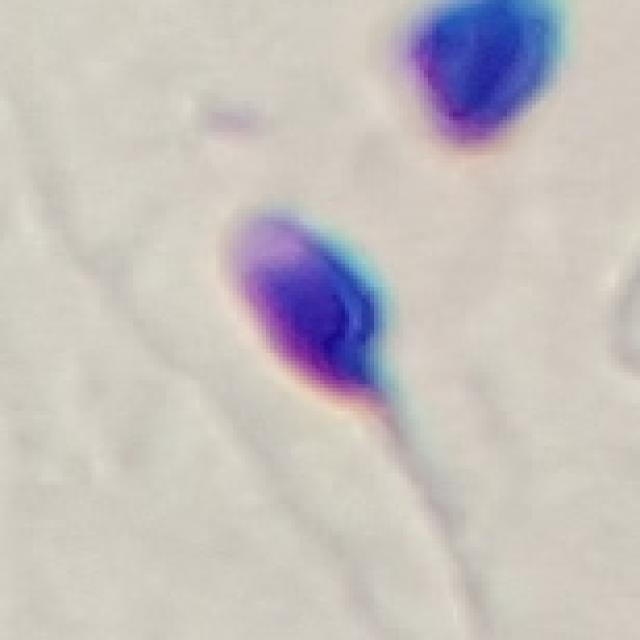normal sperm: (212, 197, 448, 514)
